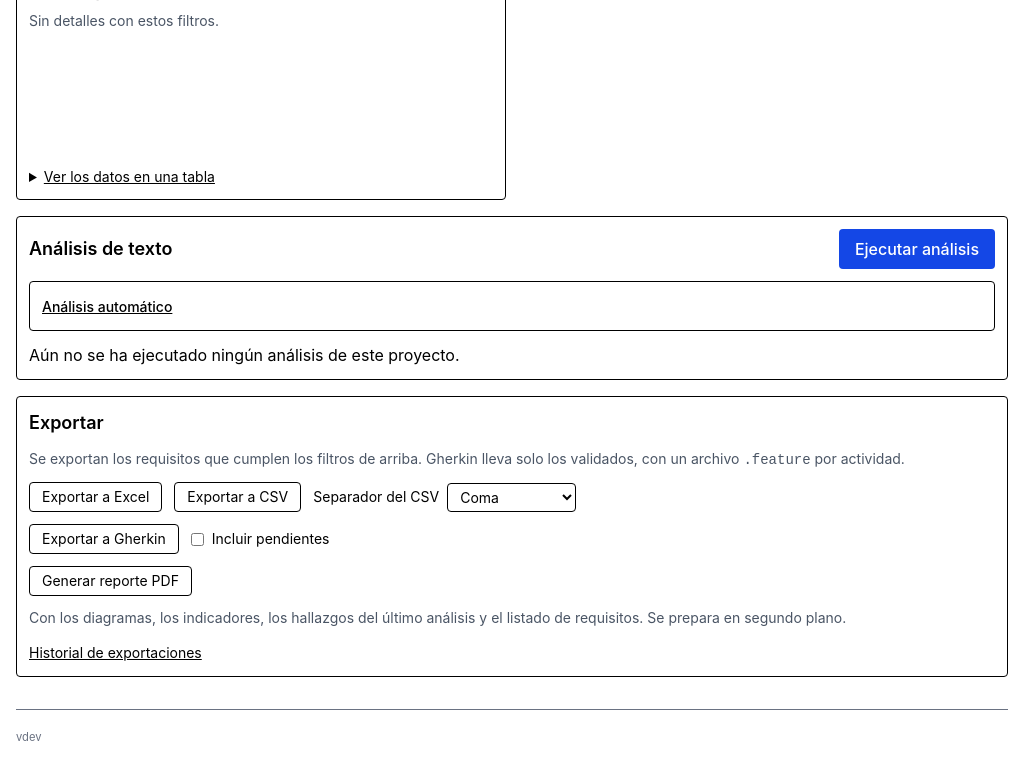
exportación inmediata › un error muestra su mensaje
This screenshot has width=1024, height=762.
(page scrolled)
Click the button "Exportar a Excel".
click(96, 497)  # box [29,482,162,512]
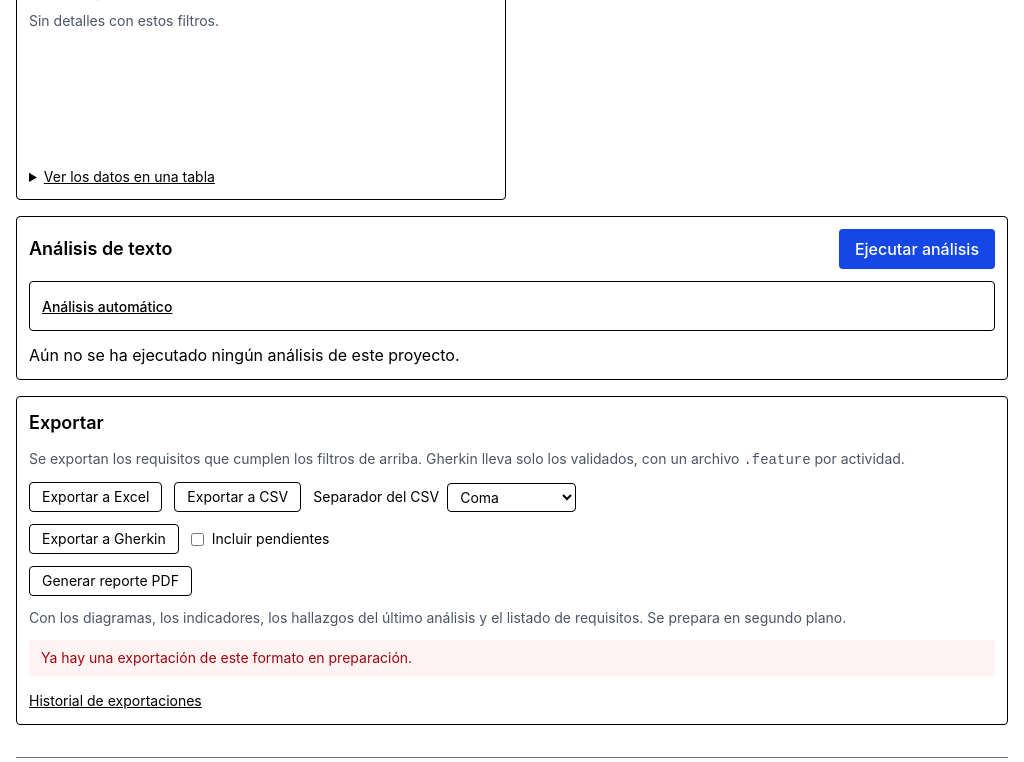
Check: the message reads "Ya hay una exportación de este formato en preparación.", box [41,649,412,666]
